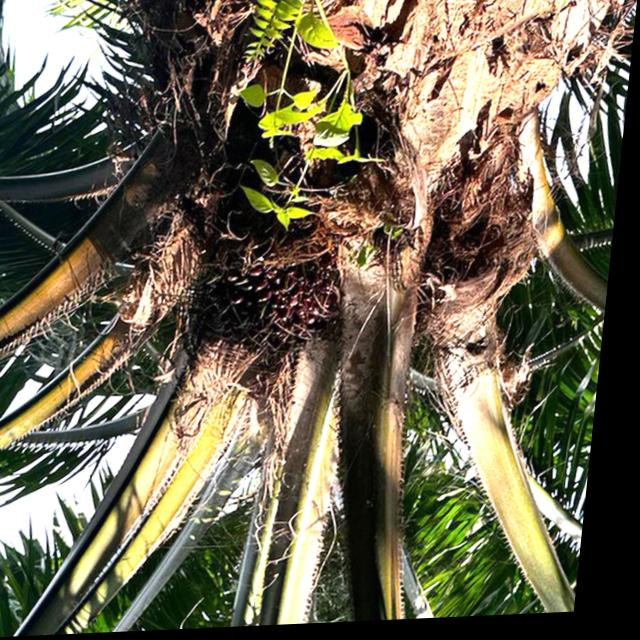unripe: (179, 165, 372, 379)
